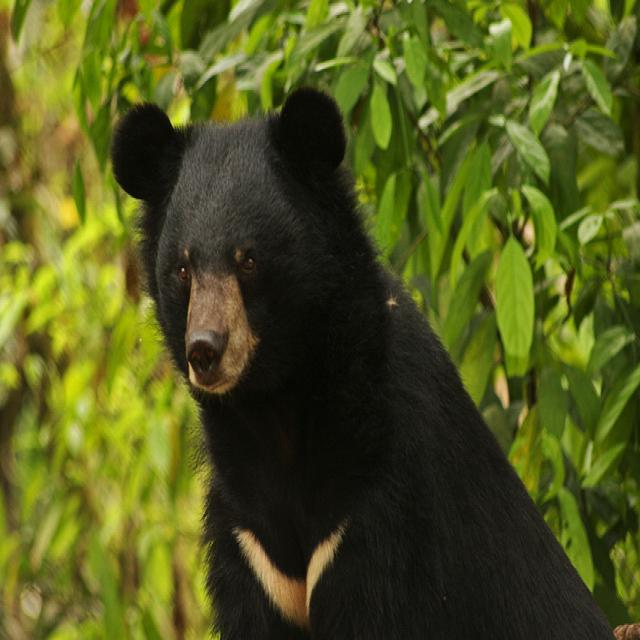Bear: (103, 79, 618, 640)
